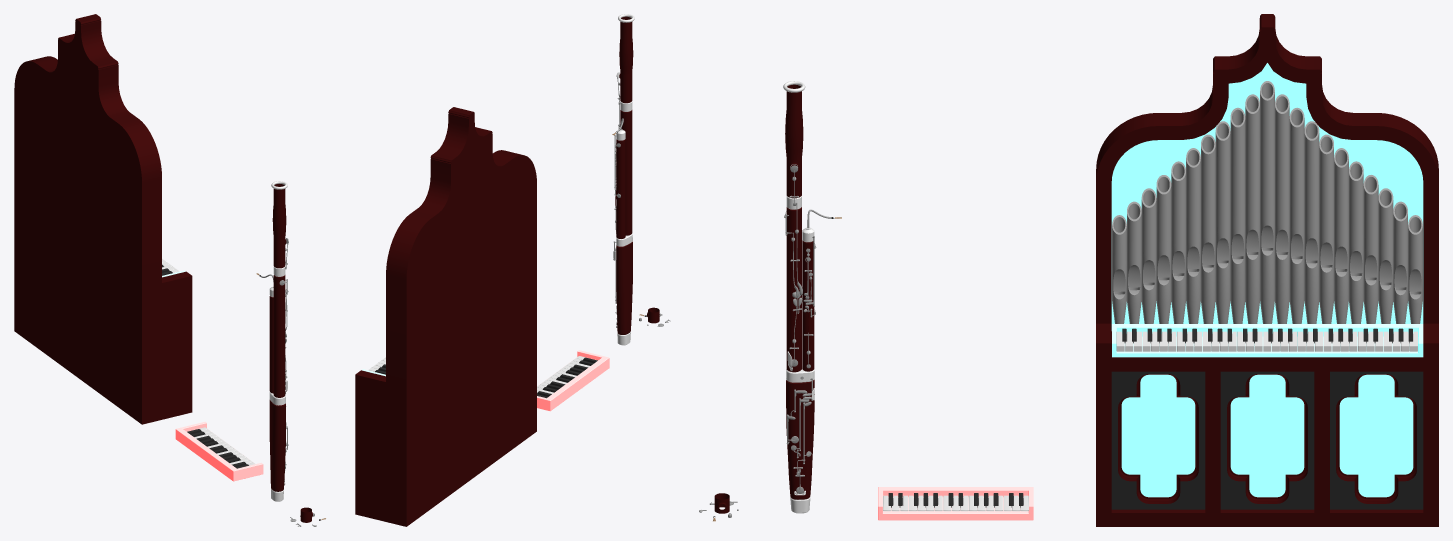
The picture shows the model from 3 angles, left to right: view 1: azimuth 30°, elevation 25°; view 2: azimuth 150°, elevation 25°; view 3: azimuth 270°, elevation 25°; orthographic projection. The views are drawn at different scales.
Visible parts, largest first — view 1: Pipe Organ_10, Bassoon_8, Mini Keyboard_12; view 2: Pipe Organ_10, Bassoon_8, Mini Keyboard_12; view 3: Pipe Organ_10, Piano Keys_11, Bassoon_8, Mini Keyboard_12.
Boxes of the visible parts, x1=… form: Pipe Organ_10: x1=14, y1=14, x2=192, y2=424; Bassoon_8: x1=256, y1=181, x2=288, y2=501; Mini Keyboard_12: x1=175, y1=421, x2=263, y2=481; Pipe Organ_10: x1=355, y1=107, x2=536, y2=526; Bassoon_8: x1=612, y1=14, x2=634, y2=345; Mini Keyboard_12: x1=537, y1=350, x2=609, y2=411; Pipe Organ_10: x1=1096, y1=14, x2=1438, y2=526; Piano Keys_11: x1=1112, y1=324, x2=1423, y2=357; Bassoon_8: x1=783, y1=81, x2=841, y2=513; Mini Keyboard_12: x1=878, y1=487, x2=1033, y2=520.
Size of the model in its own units: 10 by 68.14 by 94.97.
11 materials, 1 textured.
